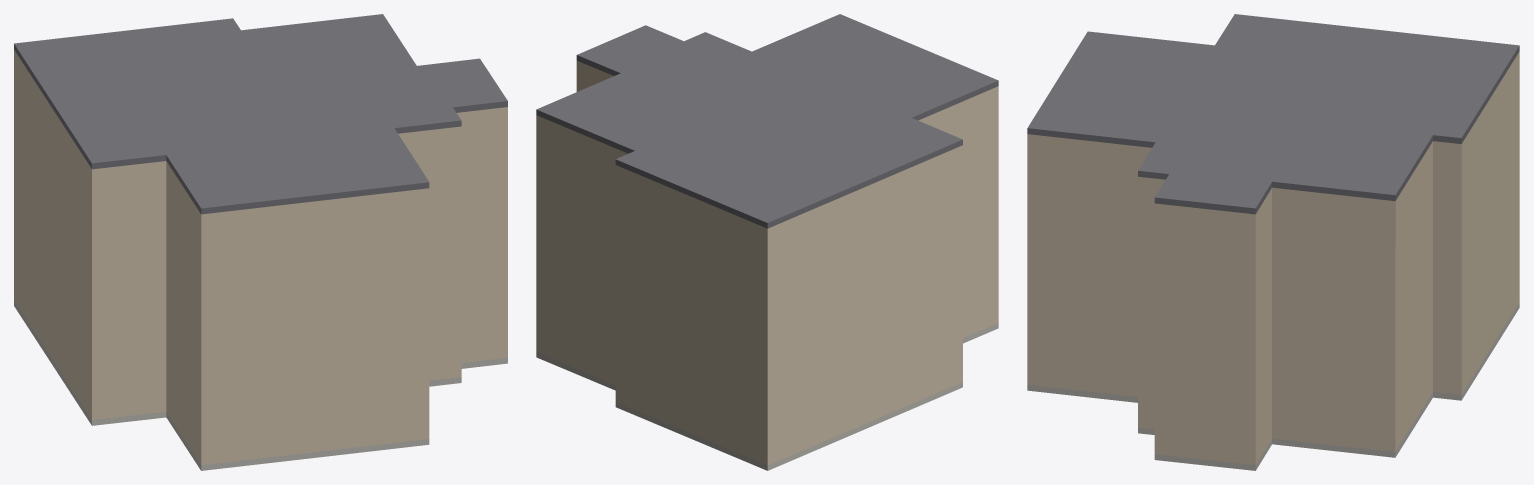
Rendered from antioch.glb.
The picture shows the model from 3 angles, left to right: view 1: azimuth 30°, elevation 25°; view 2: azimuth 150°, elevation 25°; view 3: azimuth 270°, elevation 25°; orthographic projection. The views are drawn at different scales.
Parts seen in each view (by area): view 1: antioch_walls, antioch_roof, antioch_plinth; view 2: antioch_walls, antioch_roof, antioch_plinth; view 3: antioch_walls, antioch_roof, antioch_plinth.
Boxes of the visible parts, x1,y1,x2,y2 form: antioch_walls: (14, 50, 507, 464); antioch_roof: (14, 14, 507, 214); antioch_plinth: (14, 300, 507, 470); antioch_walls: (536, 61, 998, 465); antioch_roof: (536, 14, 998, 228); antioch_plinth: (536, 323, 998, 470); antioch_walls: (1027, 51, 1519, 464); antioch_roof: (1027, 14, 1519, 214); antioch_plinth: (1027, 302, 1519, 470).
Bounding box in the file's own units: 21.27 × 13.39 × 22.75.
